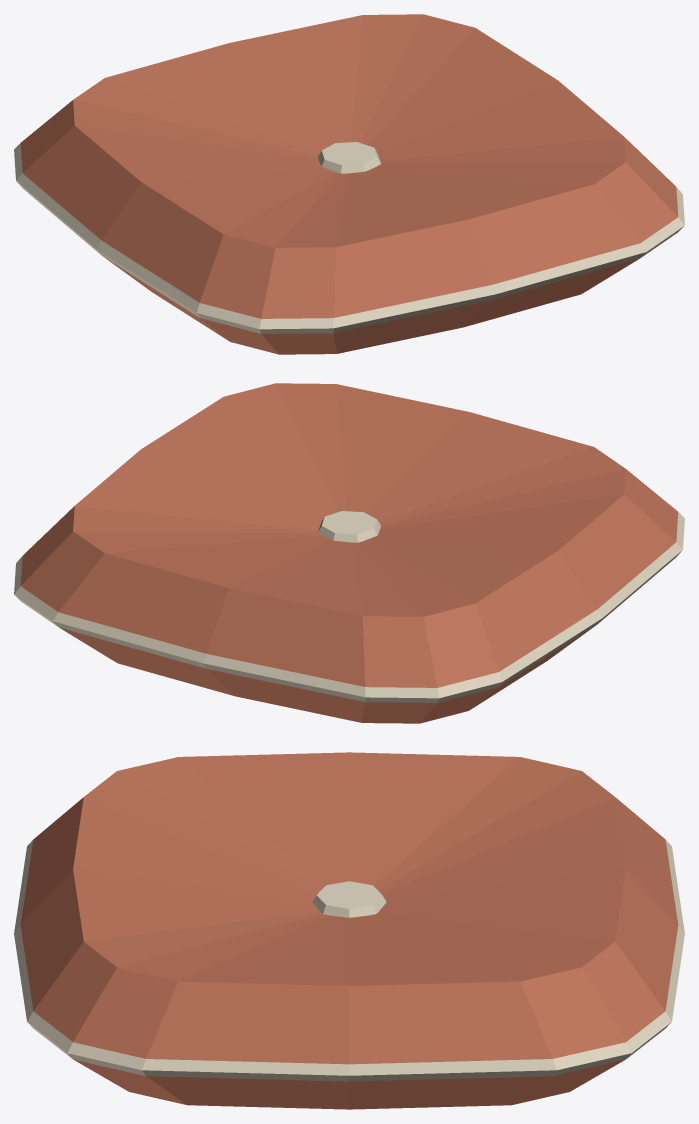
Rendered from FN_Cushion_Floor.glb.
The picture shows the model from 3 angles, top to bottom: view 1: azimuth 30°, elevation 25°; view 2: azimuth 150°, elevation 25°; view 3: azimuth 270°, elevation 25°; orthographic projection. The views are drawn at different scales.
Visible parts, largest first — view 1: FN_Cushion_Floor; view 2: FN_Cushion_Floor; view 3: FN_Cushion_Floor.
Part boxes in pixels (left/top/right/bottom): FN_Cushion_Floor: left=14, top=14, right=684, bottom=354; FN_Cushion_Floor: left=14, top=383, right=684, bottom=723; FN_Cushion_Floor: left=14, top=752, right=684, bottom=1109.
Bounding box in the file's own units: 0.704 × 0.15 × 0.704.
1 material, 1 textured.
